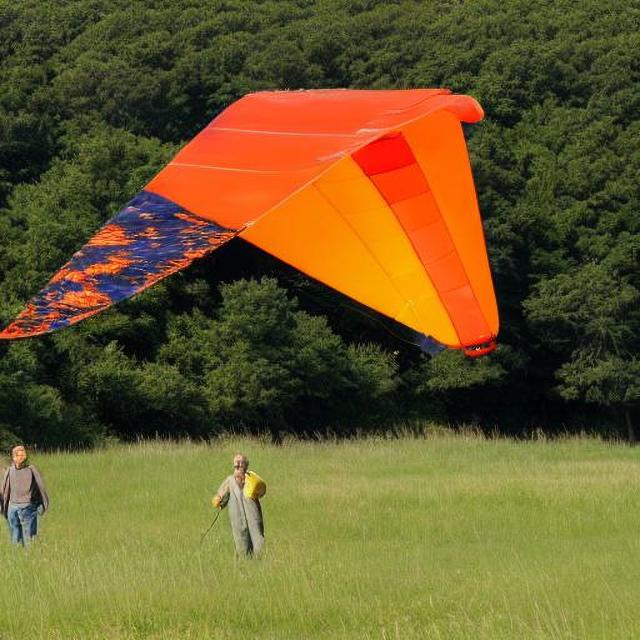floating object: (19, 82, 501, 345)
